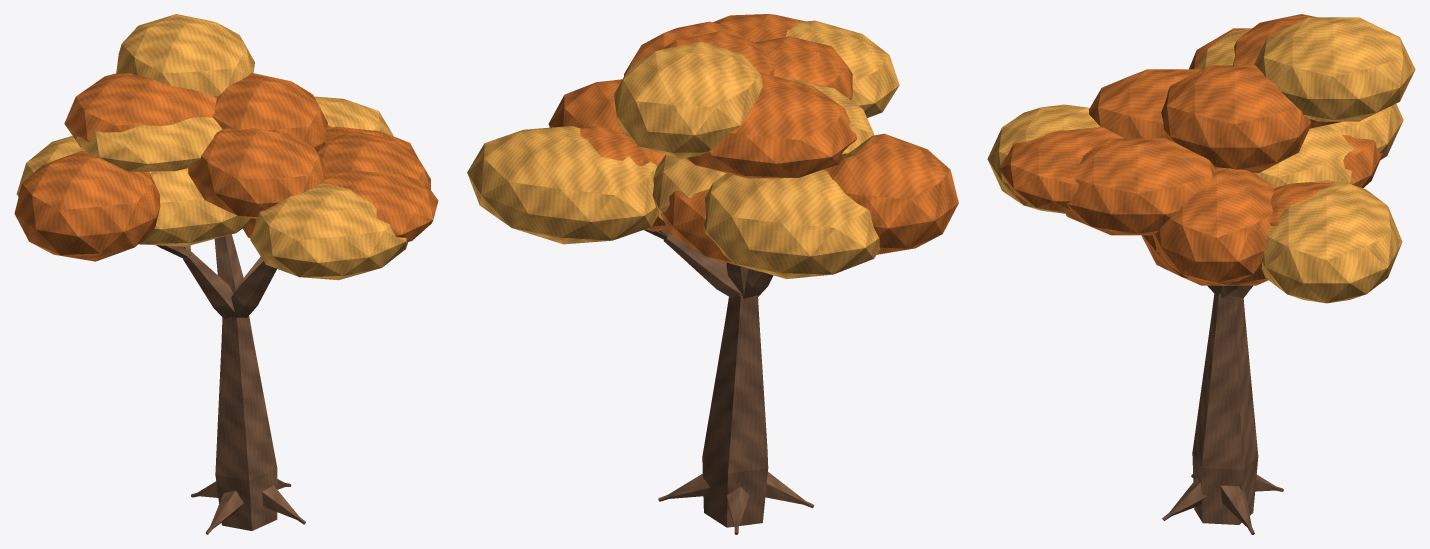
Rendered from orange_tree.glb.
The picture shows the model from 3 angles, left to right: view 1: azimuth 30°, elevation 25°; view 2: azimuth 150°, elevation 25°; view 3: azimuth 270°, elevation 25°; orthographic projection. The views are drawn at different scales.
Visible parts, largest first — view 1: Branching_tree; view 2: Branching_tree; view 3: Branching_tree.
Boxes of the visible parts, bbox=[...] form: Branching_tree: bbox=[14, 14, 438, 534]; Branching_tree: bbox=[467, 14, 958, 534]; Branching_tree: bbox=[987, 14, 1415, 534].
Bounding box in the file's own units: 3 × 3.37 × 2.69.
3 materials, 3 textured.
